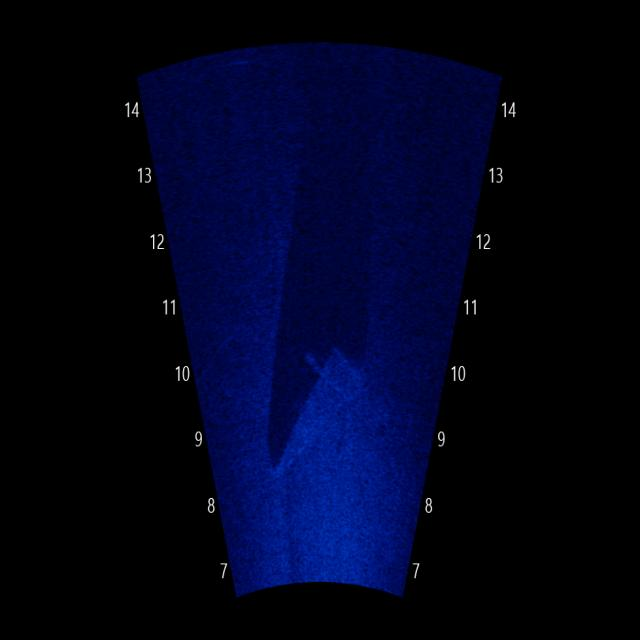triangle: (272, 327, 366, 500)
